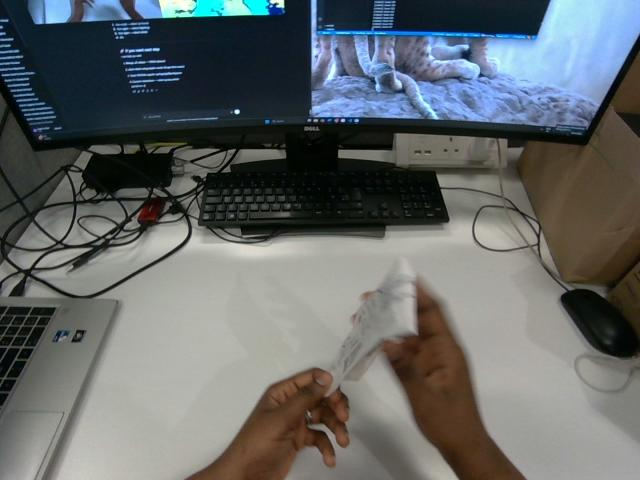syringe: (328, 257, 416, 393)
